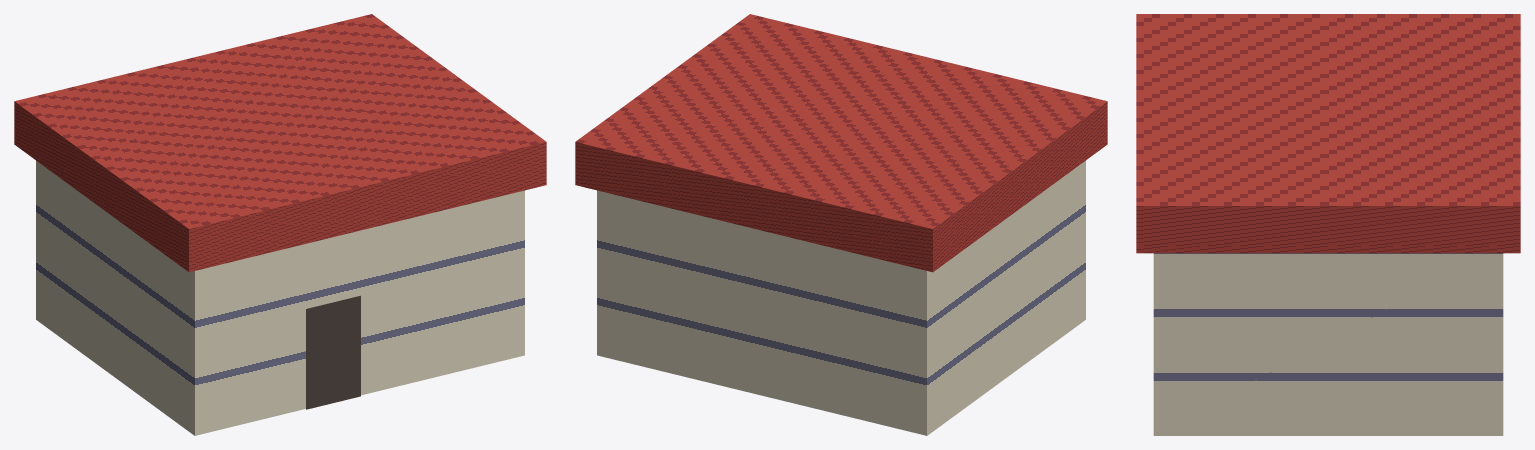
Rendered from house.gltf.
3 renders of one model, left to right at view 1: azimuth 30°, elevation 25°; view 2: azimuth 150°, elevation 25°; view 3: azimuth 270°, elevation 25°, orthographic. The views are drawn at different scales.
Parts seen in each view (by area): view 1: house; view 2: house; view 3: house.
Boxes of the visible parts, x1,y1,x2,y2 form: house: (14,14,546,435); house: (575,14,1107,435); house: (1136,14,1520,435).
Size of the model in its own units: 104 by 60 by 88.
3 materials, 2 textured.
